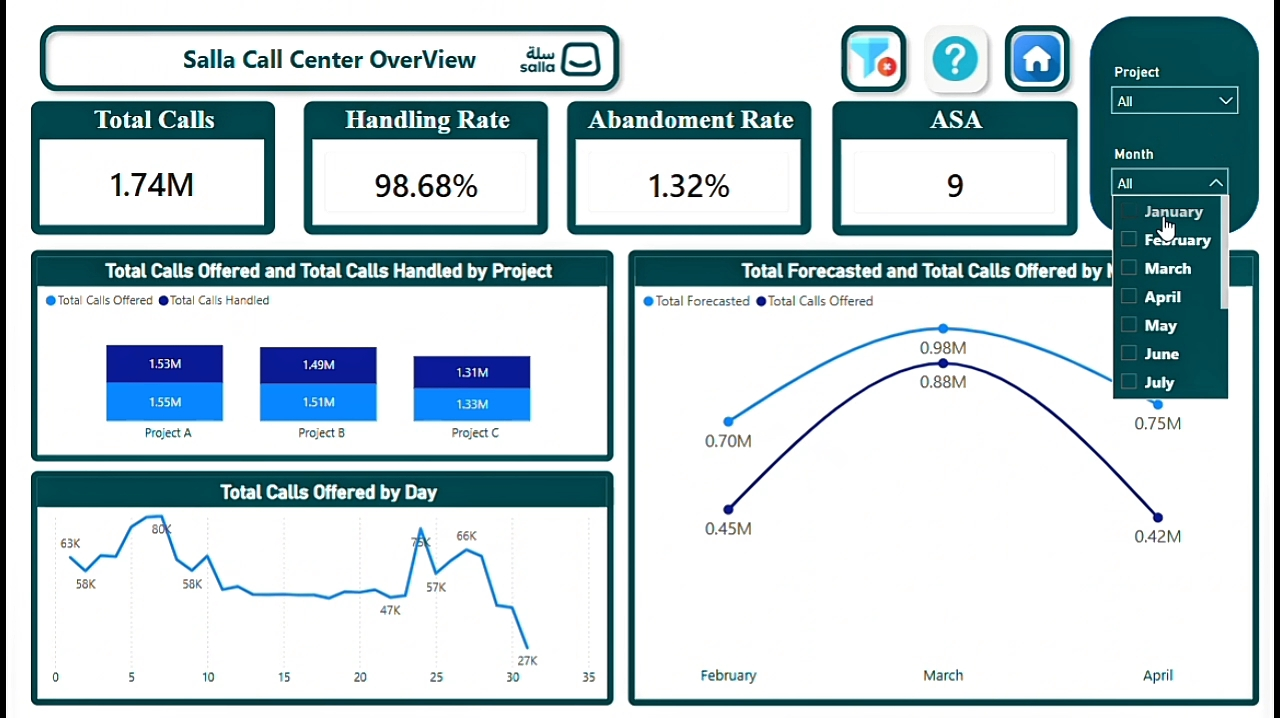

The page's visual inventory and layout, read from the dashboard file:
{"tool":"powerbi","page":{"name":"Dashboard","canvas":[1280,720],"ordinal":1},"visuals":[{"type":"cardVisual","title":"Total Calls","fields":{"Data":["Apr.Total Calls"]},"box":[20.9,95.7,248.2,136.1],"z":0},{"type":"cardVisual","title":"Handling Rate","fields":{"Data":["Apr.Handiing Rate"]},"box":[297.6,95.7,248.2,136.1],"z":1000},{"type":"cardVisual","title":"Abandoment Rate","fields":{"Data":["Apr.Abandon Rate"]},"box":[565.2,95.7,248.2,136.1],"z":2000},{"type":"columnChart","fields":{"Category":["Apr.Project"],"Y":["Apr.Total Calls","Apr.Handled Calls"]},"box":[20.9,246.7,590.7,213.8],"z":3000},{"type":"actionButton","box":[20.8,10.4,605.8,84.8],"z":4000},{"type":"actionButton","box":[500.1,4.5,111.6,98.2],"z":5000},{"type":"actionButton","box":[1000.4,10.5,83.7,85.2],"z":6000},{"type":"actionButton","title":"unfilter","box":[834.4,10.5,83.7,85.2],"z":7000},{"type":"actionButton","box":[918.1,10.5,82.2,85.2],"z":8000},{"type":"lineChart","fields":{"Y":["Apr.Total Calls Offered"],"Category":["Calendar.Date.Variation.Date Hierarchy.Day"]},"box":[20.9,471,590.7,237.8],"z":10000},{"type":"cardVisual","title":"ASA","fields":{"Data":["Apr.AsA Avg"]},"box":[834.4,95.7,248.2,137.6],"z":11000},{"type":"lineChart","fields":{"Y":["Apr.Total Forecasted","Apr.Total Calls Offered"],"Category":["Calendar.Date.Variation.Date Hierarchy.Month"]},"box":[626.5,246.7,640,462.1],"z":12000},{"type":"shape","box":[1094.6,10.5,172,221.3],"z":13000},{"type":"slicer","fields":{"Values":["Apr.Project"]},"box":[1106.5,52.3,149.5,67.3],"z":14000},{"type":"slicer","fields":{"Values":["Calendar.Date.Variation.Date Hierarchy.Month"]},"box":[1106.5,134.6,139.1,82.2],"z":15000}]}

Visuals, with their boxes in screenshot pixels (x1, y1, x2, y2), scaled from the page's 1280x720 canvas onto the 1280x718 screenshot:
"Total Calls" cardVisual: box(21, 95, 269, 231)
"Handling Rate" cardVisual: box(298, 95, 546, 231)
"Abandoment Rate" cardVisual: box(565, 95, 813, 231)
columnChart - Apr.Project x Apr.Total Calls: box(21, 246, 612, 459)
actionButton: box(21, 10, 627, 95)
actionButton: box(500, 4, 612, 102)
actionButton: box(1000, 10, 1084, 95)
"unfilter" actionButton: box(834, 10, 918, 95)
actionButton: box(918, 10, 1000, 95)
lineChart - Apr.Total Calls Offered x Calendar.Date.Variation.Date Hierarchy.Day: box(21, 470, 612, 707)
"ASA" cardVisual: box(834, 95, 1083, 233)
lineChart - Apr.Total Forecasted x Apr.Total Calls Offered: box(626, 246, 1266, 707)
shape: box(1095, 10, 1267, 231)
slicer - Apr.Project: box(1106, 52, 1256, 119)
slicer - Calendar.Date.Variation.Date Hierarchy.Month: box(1106, 134, 1246, 216)
